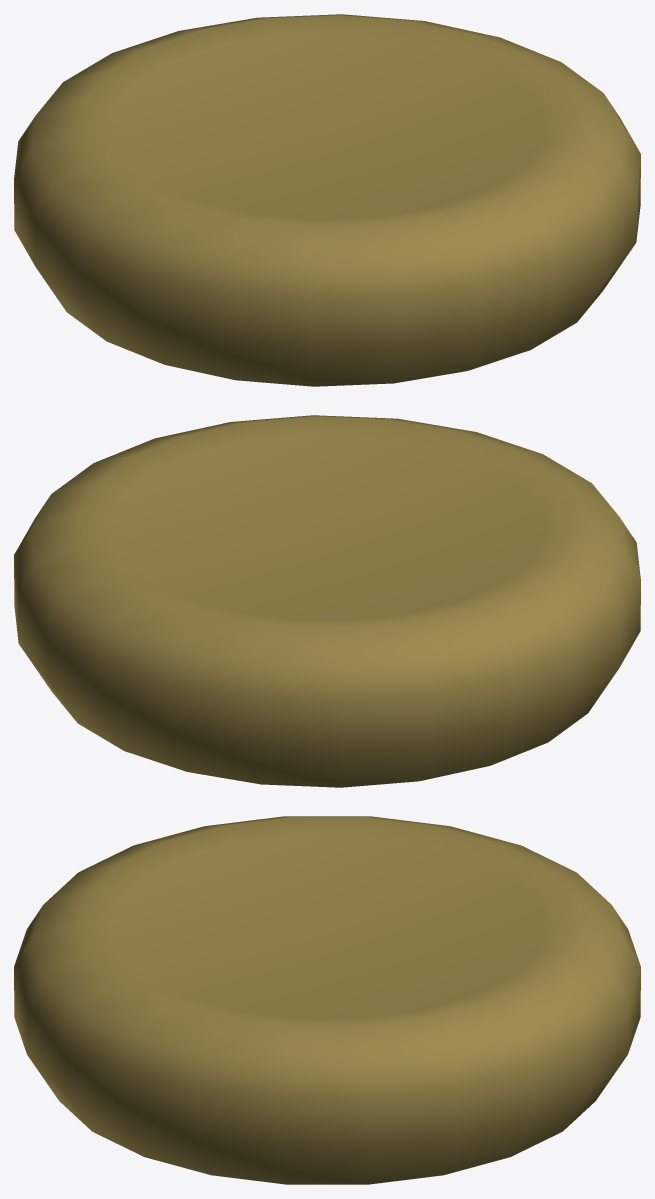
File: chickkenpilow.fbx
The picture shows the model from 3 angles, top to bottom: view 1: azimuth 30°, elevation 25°; view 2: azimuth 150°, elevation 25°; view 3: azimuth 270°, elevation 25°; orthographic projection.
Parts seen in each view (by area): view 1: Cylinder; view 2: Cylinder; view 3: Cylinder.
Part boxes in pixels (<box>): Cylinder: <box>14,14,640,386</box>; Cylinder: <box>14,415,640,787</box>; Cylinder: <box>14,816,640,1184</box>.
Bounding box in the file's own units: 3.51 × 0.9164 × 3.55.
